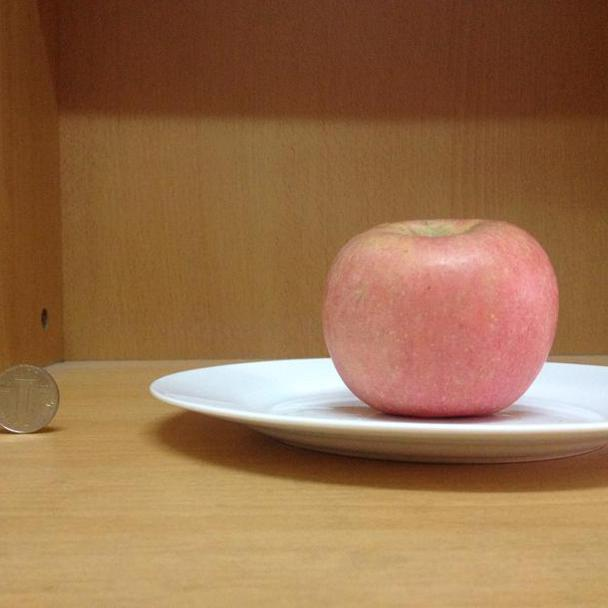apple: (318, 219, 559, 419)
